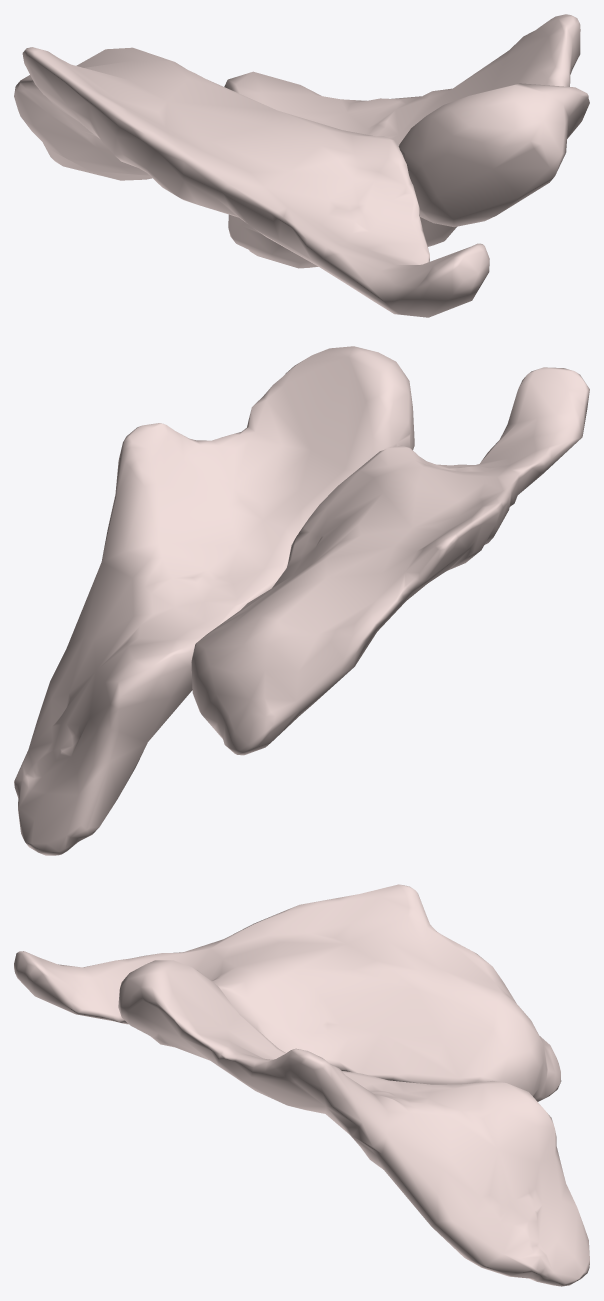
Rendered from thymus.glb.
The picture shows the model from 3 angles, top to bottom: view 1: azimuth 30°, elevation 25°; view 2: azimuth 150°, elevation 25°; view 3: azimuth 270°, elevation 25°; orthographic projection. The views are drawn at different scales.
Visible parts, largest first — view 1: right lobe of thymus, left lobe of thymus; view 2: left lobe of thymus, right lobe of thymus; view 3: right lobe of thymus, left lobe of thymus.
Part boxes in pixels (x1=…): right lobe of thymus: x1=14, y1=47, x2=489, y2=317; left lobe of thymus: x1=224, y1=14, x2=589, y2=268; left lobe of thymus: x1=14, y1=346, x2=414, y2=855; right lobe of thymus: x1=191, y1=367, x2=589, y2=755; right lobe of thymus: x1=14, y1=884, x2=561, y2=1101; left lobe of thymus: x1=118, y1=960, x2=589, y2=1286.
Bounding box in the file's own units: 46.58 × 39.55 × 72.2.
